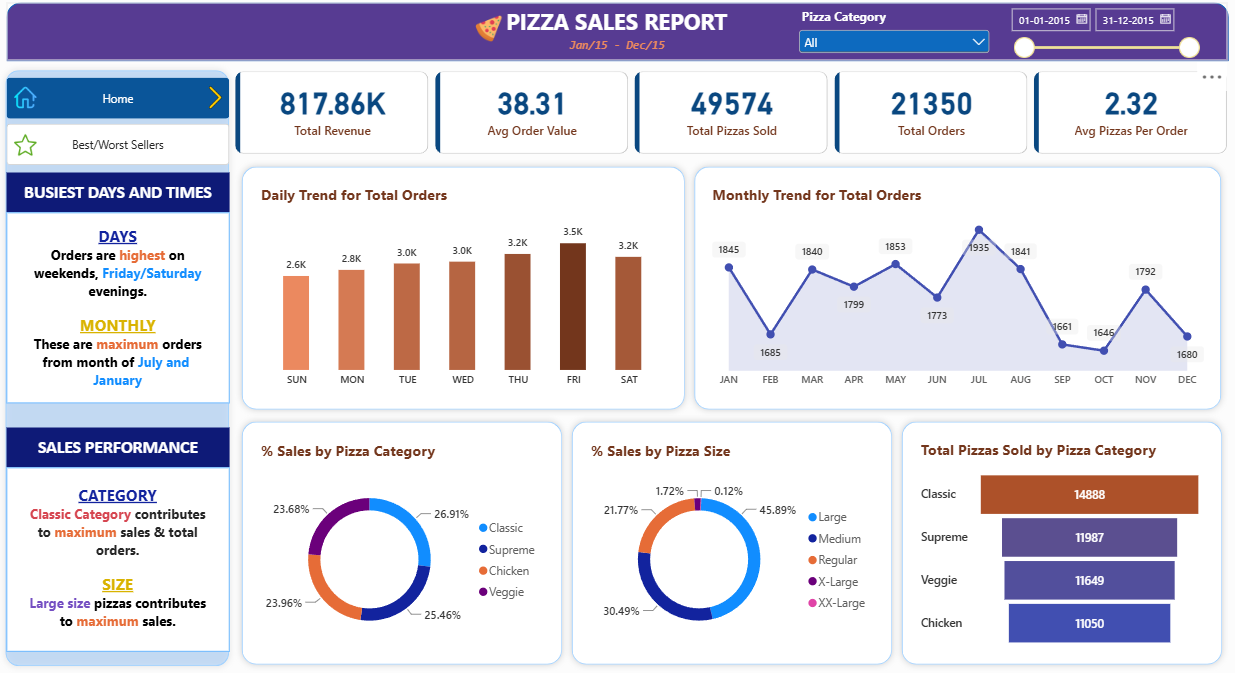

The dashboard page shown, as its layout file describes it:
{"tool":"powerbi","page":{"name":"Home","canvas":[1500,820],"ordinal":0},"visuals":[{"type":"shape","box":[0,76.6,286.9,738.1],"z":0},{"type":"cardVisual","fields":{"Data":["pizza_sales.Total Revenue","pizza_sales.Avg Order Value","pizza_sales.Total Pizzas Sold","pizza_sales.Total Orders","pizza_sales.Avg Pizzas Per Order"]},"box":[286.9,86.3,1203.3,100.3],"z":1000},{"type":"shape","box":[8.6,2.9,1481.4,71.4],"z":2000},{"type":"textbox","box":[575.7,7.1,346.2,40],"z":3000},{"type":"textbox","box":[670,44.3,158.6,27.1],"z":4000},{"type":"image","box":[563.8,18.8,60,32.5],"z":5000},{"type":"shape","box":[286.9,193.6,552.9,310.6],"z":6000},{"type":"columnChart","title":"Daily Trend for Total Orders","fields":{"Category":["pizza_sales.Order Day"],"Y":["pizza_sales.Total Orders"]},"box":[302.2,208.9,522,279.9],"z":7000},{"type":"shape","box":[835.6,193.6,654.6,310.6],"z":8000},{"type":"areaChart","title":"Monthly Trend for Total Orders","fields":{"Category":["pizza_sales.Order Month"],"Y":["pizza_sales.Total Orders"]},"box":[848.1,208.9,628.1,279.9],"z":9000},{"type":"shape","box":[286.9,502.8,404,310.6],"z":10000},{"type":"shape","box":[686.6,502.8,404,310.6],"z":11000},{"type":"shape","box":[1086.3,502.8,404,310.6],"z":12000},{"type":"donutChart","title":"% Sales by Pizza Category","fields":{"Category":["pizza_sales.pizza_category"],"Y":["pizza_sales.Total Revenue"]},"box":[302.2,518.1,373,281.3],"z":13000},{"type":"donutChart","title":"% Sales by Pizza Size","fields":{"Category":["pizza_sales.pizza_size"],"Y":["pizza_sales.Total Revenue"]},"box":[701.9,518.1,373.2,281.3],"z":14000},{"type":"funnel","title":"Total Pizzas Sold by Pizza Category","fields":{"Category":["pizza_sales.pizza_category"],"Y":["pizza_sales.Total Pizzas Sold"]},"box":[1101.6,518.1,373.2,281.3],"z":15000},{"type":"textbox","box":[8.6,208.6,270,48],"z":16000},{"type":"textbox","box":[8.4,257.6,270.2,231.2],"z":17000},{"type":"textbox","box":[8.6,518.6,270.2,48],"z":18000},{"type":"textbox","box":[8.6,567.1,270,222.9],"z":19000},{"type":"slicer","fields":{"Values":["pizza_sales.pizza_category"]},"box":[965.7,8.6,240,60],"z":20000},{"type":"slicer","fields":{"Values":["pizza_sales.order_date"]},"box":[1220,0,239.5,86.3],"z":21000},{"type":"pageNavigator","box":[8.3,94.2,270.2,50.1],"z":22000},{"type":"pageNavigator","box":[8.3,150,270.2,50.1],"z":23000},{"type":"image","box":[15.9,105.3,33.3,27.3],"z":24000},{"type":"image","box":[15.9,161.8,33.5,27.1],"z":25000},{"type":"image","box":[244.7,105.3,33.5,27.1],"z":25001}]}

Visuals, with their boxes in screenshot pixels (x1, y1, x2, y2), scaled from the page's 1500x820 canvas onto the 1235x673 screenshot:
shape: [x1=0, y1=63, x2=236, y2=669]
cardVisual - pizza_sales.Total Revenue x pizza_sales.Avg Order Value: [x1=236, y1=71, x2=1227, y2=153]
shape: [x1=7, y1=2, x2=1227, y2=61]
textbox: [x1=474, y1=6, x2=759, y2=39]
textbox: [x1=552, y1=36, x2=682, y2=59]
image: [x1=464, y1=15, x2=514, y2=42]
shape: [x1=236, y1=159, x2=691, y2=414]
"Daily Trend for Total Orders" columnChart: [x1=249, y1=171, x2=679, y2=401]
shape: [x1=688, y1=159, x2=1227, y2=414]
"Monthly Trend for Total Orders" areaChart: [x1=698, y1=171, x2=1215, y2=401]
shape: [x1=236, y1=413, x2=569, y2=668]
shape: [x1=565, y1=413, x2=898, y2=668]
shape: [x1=894, y1=413, x2=1227, y2=668]
"% Sales by Pizza Category" donutChart: [x1=249, y1=425, x2=556, y2=656]
"% Sales by Pizza Size" donutChart: [x1=578, y1=425, x2=885, y2=656]
"Total Pizzas Sold by Pizza Category" funnel: [x1=907, y1=425, x2=1214, y2=656]
textbox: [x1=7, y1=171, x2=229, y2=211]
textbox: [x1=7, y1=211, x2=229, y2=401]
textbox: [x1=7, y1=426, x2=230, y2=465]
textbox: [x1=7, y1=465, x2=229, y2=648]
slicer - pizza_sales.pizza_category: [x1=795, y1=7, x2=993, y2=56]
slicer - pizza_sales.order_date: [x1=1004, y1=0, x2=1202, y2=71]
pageNavigator: [x1=7, y1=77, x2=229, y2=118]
pageNavigator: [x1=7, y1=123, x2=229, y2=164]
image: [x1=13, y1=86, x2=41, y2=109]
image: [x1=13, y1=133, x2=41, y2=155]
image: [x1=201, y1=86, x2=229, y2=109]
